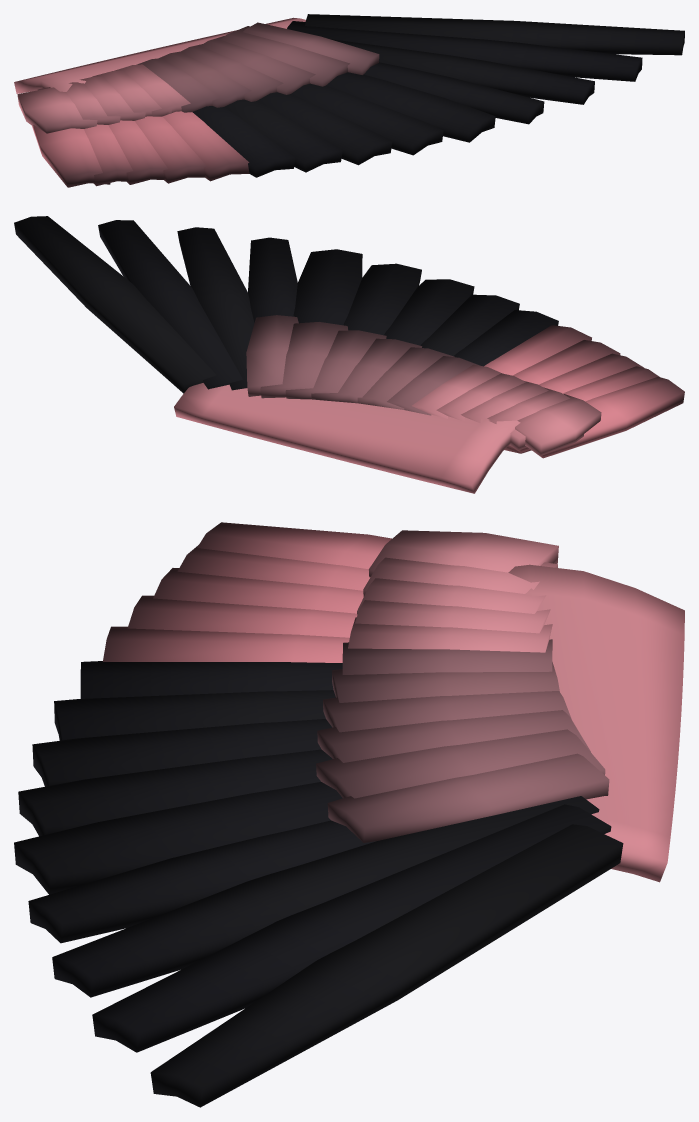
File: Flamingo_Wing.fbx
3 renders of one model, top to bottom at view 1: azimuth 30°, elevation 25°; view 2: azimuth 150°, elevation 25°; view 3: azimuth 270°, elevation 25°, orthographic. The views are drawn at different scales.
Visible parts, largest first — view 1: Flamingo_Wing; view 2: Flamingo_Wing; view 3: Flamingo_Wing.
Boxes of the visible parts, x1,y1,x2,y2 form: Flamingo_Wing: (14,14,684,187); Flamingo_Wing: (14,216,684,493); Flamingo_Wing: (14,522,684,1107).
Size of the model in its own units: 13.85 by 0.7482 by 6.94.
